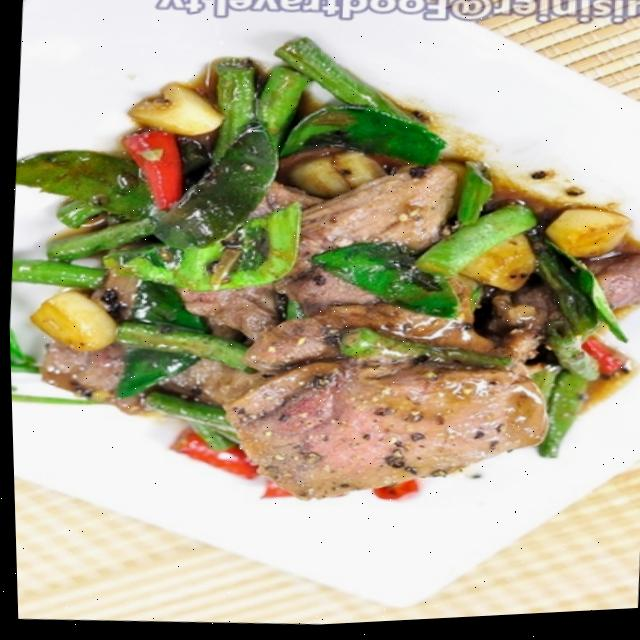牛肉菜式: (24, 17, 640, 636)
